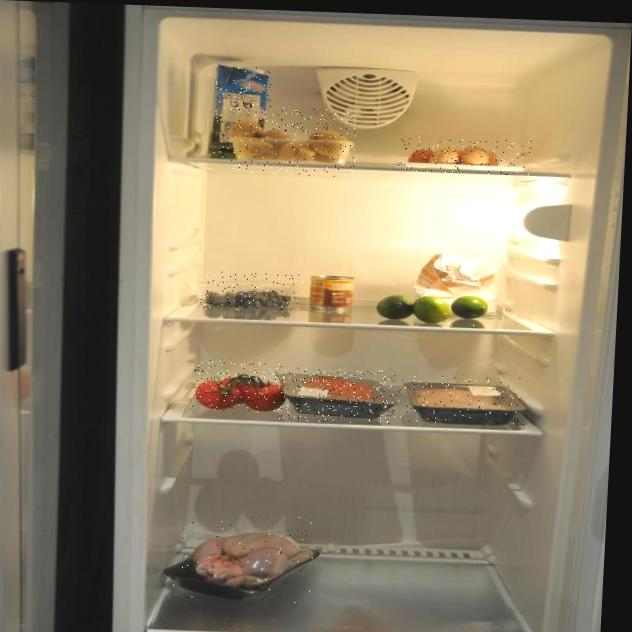chicken: (171, 512, 315, 608)
eggs: (398, 136, 532, 176)
lime: (387, 294, 487, 331)
meat: (278, 367, 398, 424), (397, 373, 526, 426)
milk: (212, 65, 273, 163)
olive: (197, 270, 304, 313)
potatoes: (228, 106, 359, 177)
tomatoes: (192, 360, 285, 413)
